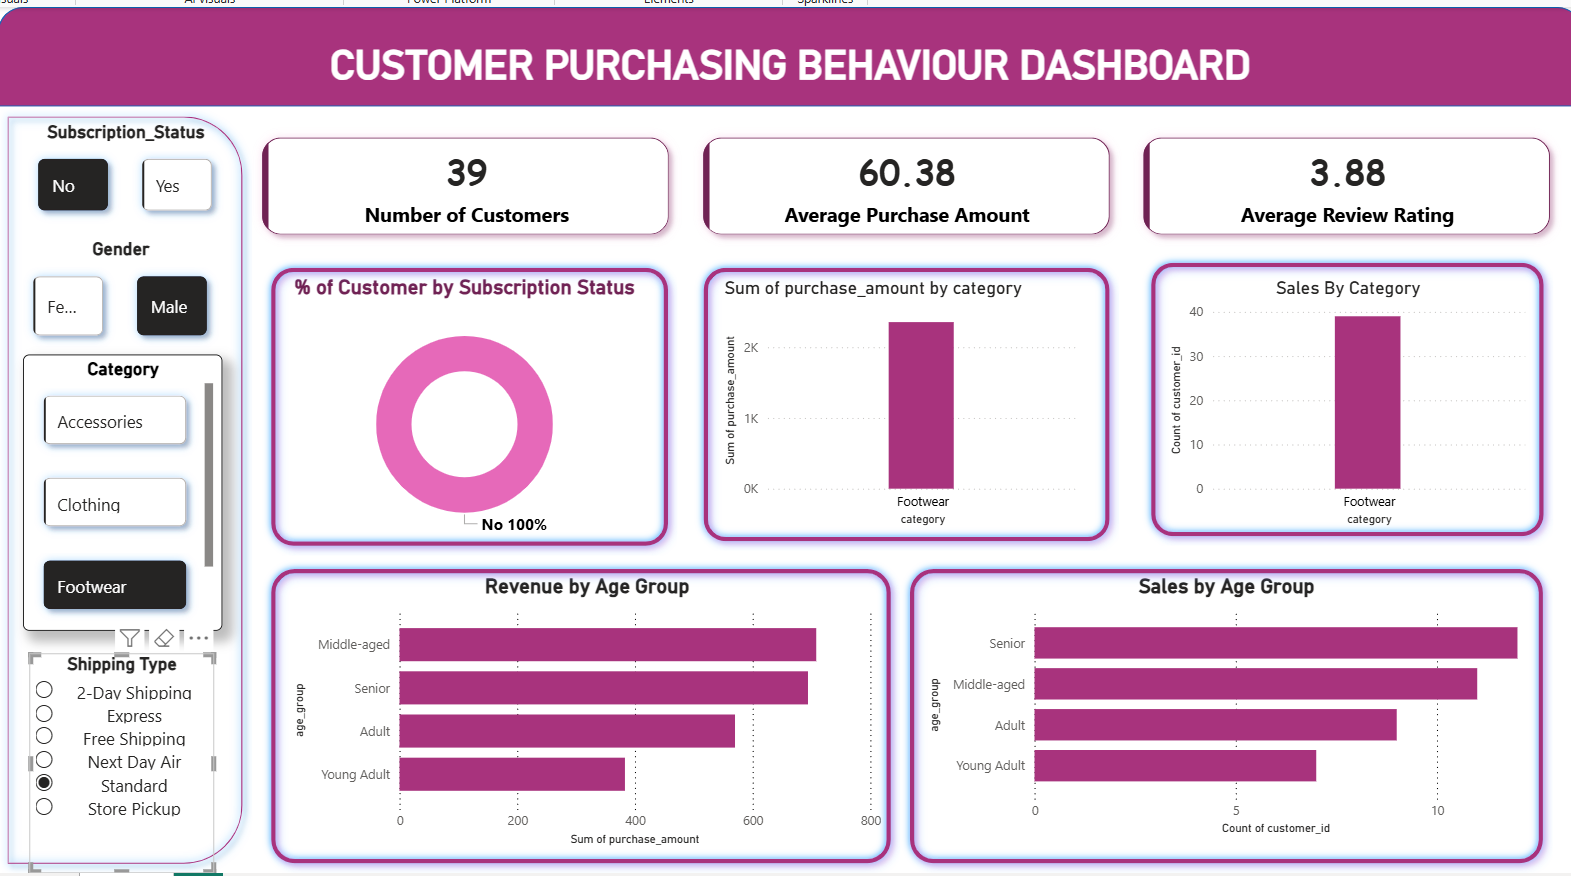

This screenshot's page, from the dashboard's own definition file:
{"tool":"powerbi","page":{"name":"Page 1","canvas":[1500,820],"ordinal":0},"visuals":[{"type":"cardVisual","fields":{"Data":["public customer.Number of Customers","public customer.Average Purchase Amount","public customer.Average Review Rating"]},"box":[220.8,94.2,1279.5,150.5],"z":0},{"type":"shape","box":[0,0,1500.3,94.2],"z":1000},{"type":"textbox","box":[0,26.7,1500.3,56.2],"z":2000},{"type":"donutChart","title":"% of Customer by Subscription Status","fields":{"Category":["public customer.subscription_status"],"Y":["Sum(public customer.customer_id)"]},"box":[274.2,254.5,334.6,260.1],"z":3000},{"type":"shape","box":[250.3,237.6,393.7,281.2],"z":4000},{"type":"shape","box":[659.5,237.6,402.1,277],"z":5000},{"type":"shape","box":[1082.7,233.4,389.5,277],"z":6000},{"type":"clusteredColumnChart","fields":{"Y":["Sum(public customer.purchase_amount)"],"Category":["public customer.category"]},"box":[683.4,255.9,344.5,240.4],"z":7000},{"type":"clusteredColumnChart","title":"Sales By Category","fields":{"Y":["CountNonNull(public customer.customer_id)"],"Category":["public customer.category"]},"box":[1105.2,255.9,345.9,240.4],"z":8000},{"type":"shape","box":[0,94.2,240.4,725.5],"z":9000},{"type":"advancedSlicerVisual","title":"Subscription_Status","fields":{"Values":["public customer.subscription_status"]},"box":[21.1,108.3,199.7,102.6],"z":10000},{"type":"advancedSlicerVisual","title":"Category","fields":{"Values":["public customer.category"]},"box":[23.9,329,188.4,261.5],"z":11000},{"type":"advancedSlicerVisual","title":"Gender","fields":{"Values":["public customer.gender"]},"box":[16.9,219.3,199.7,109.7],"z":11001},{"type":"listSlicer","fields":{"Values":["public customer.shipping_type"]},"box":[29.5,611.6,175.8,208.1],"z":11002},{"type":"clusteredBarChart","title":"Revenue by Age Group","fields":{"Category":["public customer.age_group"],"Y":["Sum(public customer.purchase_amount)"]},"box":[274.2,537.1,566.6,261.5],"z":11003},{"type":"clusteredBarChart","title":"Sales by Age Group","fields":{"Category":["public customer.age_group"],"Y":["CountNonNull(public customer.customer_id)"]},"box":[876,537.1,575.1,251.7],"z":11004},{"type":"shape","box":[250.3,523.1,604.6,296.7],"z":11005},{"type":"shape","box":[854.9,523.1,617.3,296.7],"z":11006}]}

Visuals, with their boxes in screenshot pixels (x1, y1, x2, y2):
cardVisual - public customer.Number of Customers x public customer.Average Purchase Amount: (208,105,1570,266)
shape: (0,4,1570,105)
textbox: (0,33,1570,93)
"% of Customer by Subscription Status" donutChart: (265,277,623,555)
shape: (239,259,661,560)
shape: (678,259,1108,555)
shape: (1131,254,1548,551)
clusteredColumnChart - Sum(public customer.purchase_amount) x public customer.category: (703,278,1072,536)
"Sales By Category" clusteredColumnChart: (1155,278,1525,536)
shape: (0,105,229,875)
"Subscription_Status" advancedSlicerVisual: (0,120,208,230)
"Category" advancedSlicerVisual: (0,356,199,636)
"Gender" advancedSlicerVisual: (0,239,203,356)
listSlicer - public customer.shipping_type: (3,659,191,875)
"Revenue by Age Group" clusteredBarChart: (265,579,872,859)
"Sales by Age Group" clusteredBarChart: (909,579,1525,849)
shape: (239,564,887,875)
shape: (887,564,1548,875)
